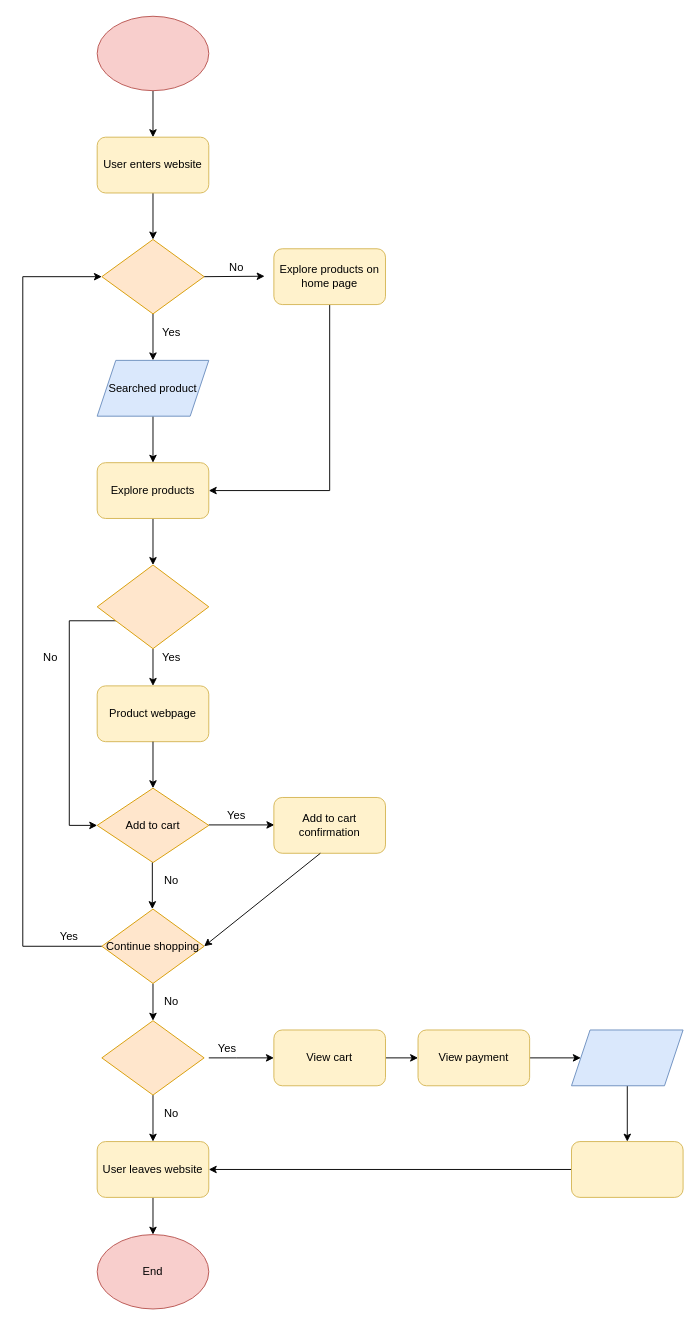
Some shapes in this 699 by 1325 pixel diagram are drawn without their labels. Each missing label, with the centre of its shape:
Checkout: [152,1057]
Confirmation and email confirmation: [627,1169]
Payment Information: [627,1057]
Search for product: [152,276]
Start: [152,53]
View specific product: [152,606]
